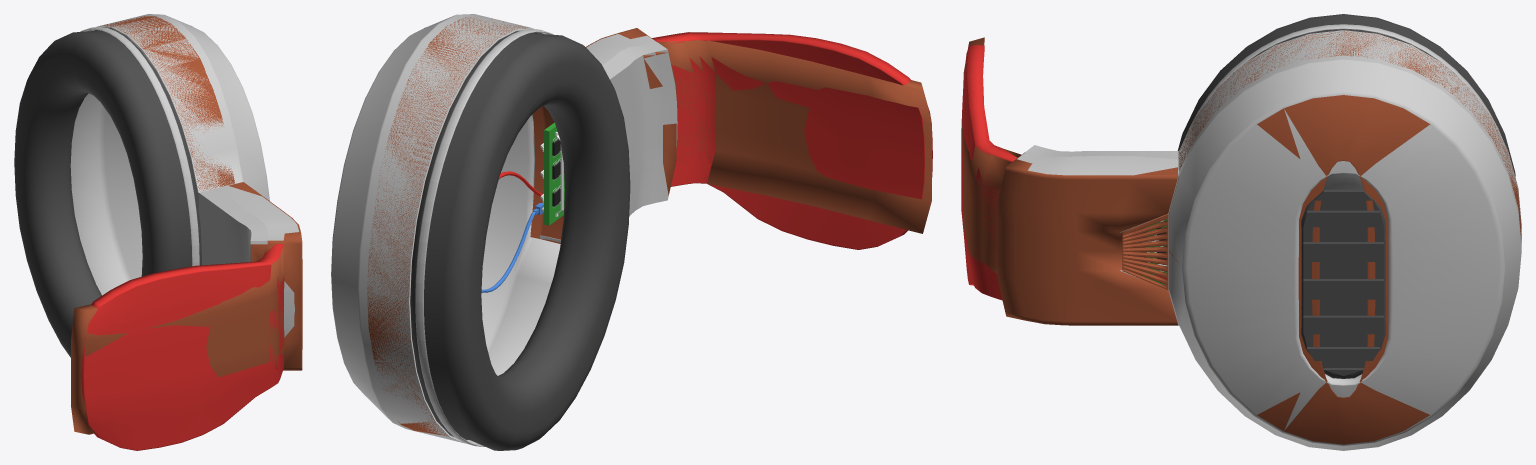
File: NIS Implant.fbx
3 renders of one model, left to right at view 1: azimuth 30°, elevation 25°; view 2: azimuth 150°, elevation 25°; view 3: azimuth 270°, elevation 25°, orthographic. The views are drawn at different scales.
Parts seen in each view (by area): view 1: Cube.007, Cube.005, Cube, Cube.004, Cube.001, Cube.010, Cube.003, Cube.006; view 2: Cube.007, Cube, Cube.005, Cube.004, Cube.001, Cube.010, Cube.006, Plane, Cube.003; view 3: Cube, Cube.004, Cube.001, Cube.009, Cube.005, Cube.007, Cube.003, Cube.002, Cube.006, Cube.010.
Boxes of the visible parts, x1,y1,x2,y2 form: Cube.007: (14, 27, 201, 357); Cube.005: (81, 244, 284, 450); Cube: (70, 14, 269, 295); Cube.004: (71, 182, 302, 434); Cube.001: (103, 16, 234, 193); Cube.010: (198, 189, 267, 265); Cube.003: (214, 182, 298, 337); Cube.006: (80, 27, 199, 266); Cube.007: (410, 32, 630, 450); Cube: (331, 14, 560, 443); Cube.005: (652, 32, 932, 249); Cube.004: (586, 28, 931, 233); Cube.001: (367, 17, 563, 442); Cube.010: (602, 42, 677, 215); Cube.006: (415, 29, 553, 446); Plane: (481, 122, 564, 292); Cube.003: (540, 34, 656, 242); Cube: (1168, 30, 1521, 450); Cube.004: (961, 37, 1178, 325); Cube.001: (1165, 31, 1521, 444); Cube.009: (1301, 174, 1385, 378); Cube.005: (961, 44, 1017, 300); Cube.007: (1177, 14, 1515, 176); Cube.003: (1017, 152, 1178, 325); Cube.002: (1122, 214, 1168, 289); Cube.006: (1182, 24, 1503, 143); Cube.010: (1025, 145, 1177, 285).
Size of the model in its own units: 769 by 803 by 1039.
